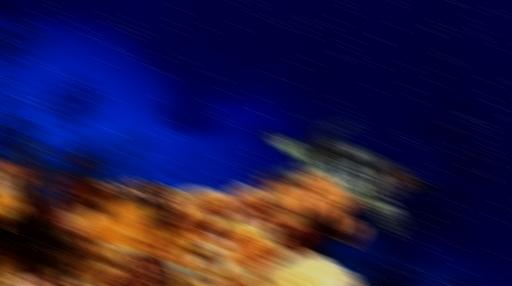Fish: (267, 119, 431, 236)
